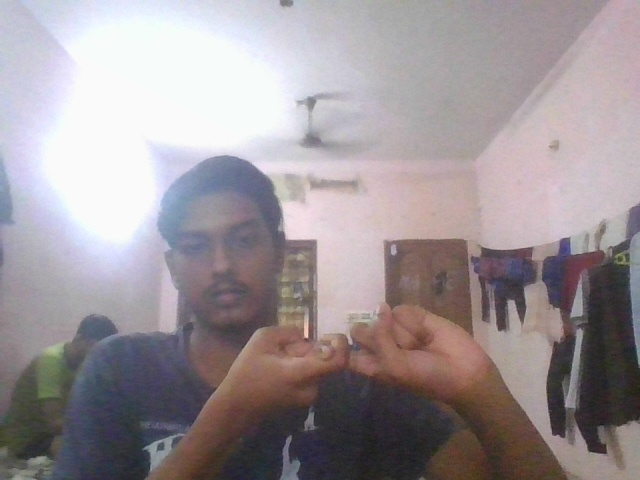friend: (237, 300, 491, 435)
